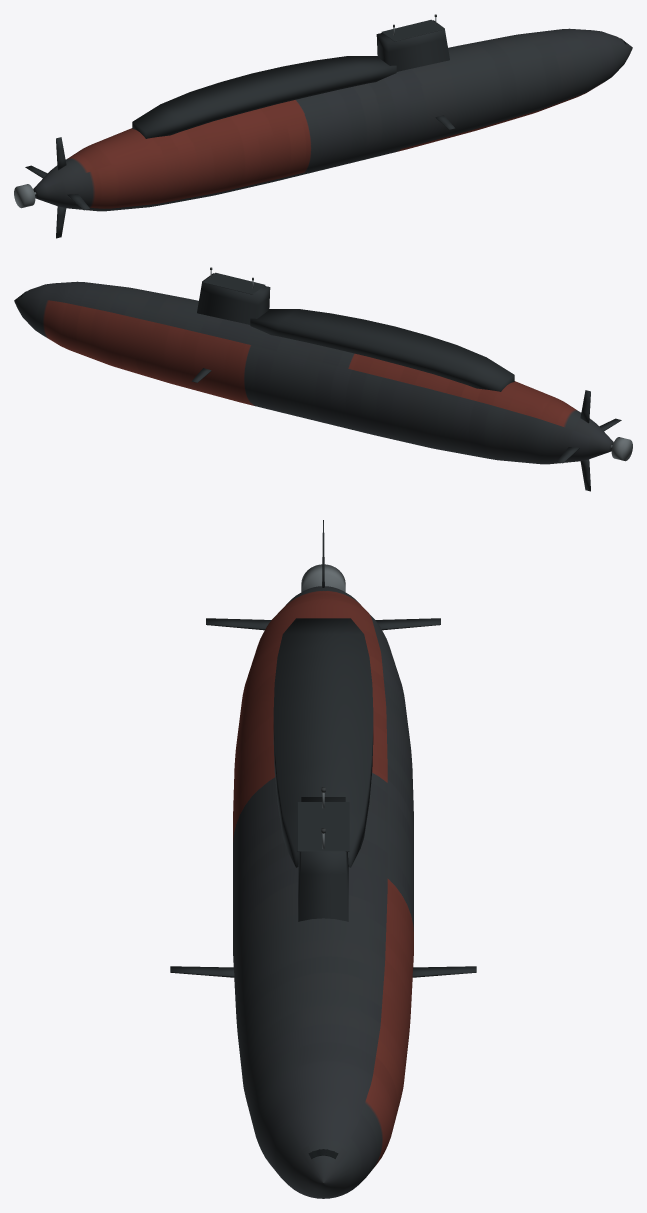
File: RU_SSBN_Typhoon.glb
3 renders of one model, top to bottom at view 1: azimuth 30°, elevation 25°; view 2: azimuth 150°, elevation 25°; view 3: azimuth 270°, elevation 25°, orthographic. The views are drawn at different scales.
Parts seen in each view (by area): view 1: RU_SSBN_Typhoon_LOD0; view 2: RU_SSBN_Typhoon_LOD0; view 3: RU_SSBN_Typhoon_LOD0.
Part boxes in pixels (x1,y1,x2,y2): RU_SSBN_Typhoon_LOD0: (14,14,632,238); RU_SSBN_Typhoon_LOD0: (14,267,632,491); RU_SSBN_Typhoon_LOD0: (170,520,476,1198).
Size of the model in its own units: 180 by 36.61 by 38.84.
6 materials, 1 textured.
